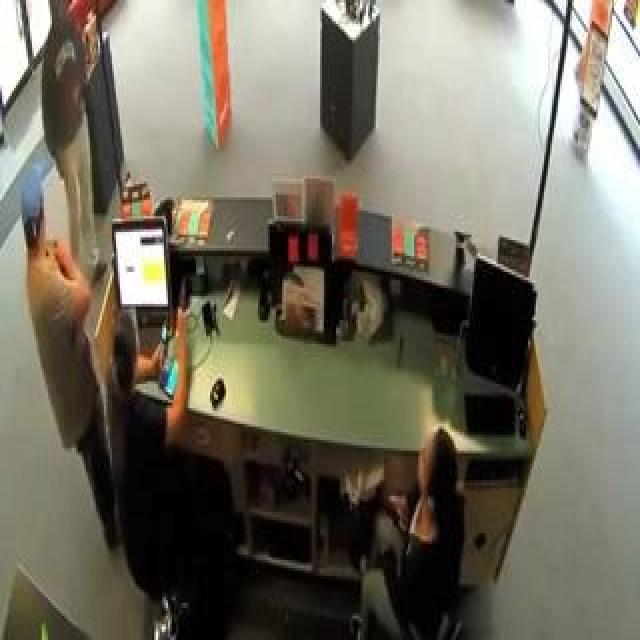high_con: (40, 0, 78, 40)
low_con: (13, 163, 50, 273)
no_con: (104, 300, 150, 396), (417, 422, 460, 514)
